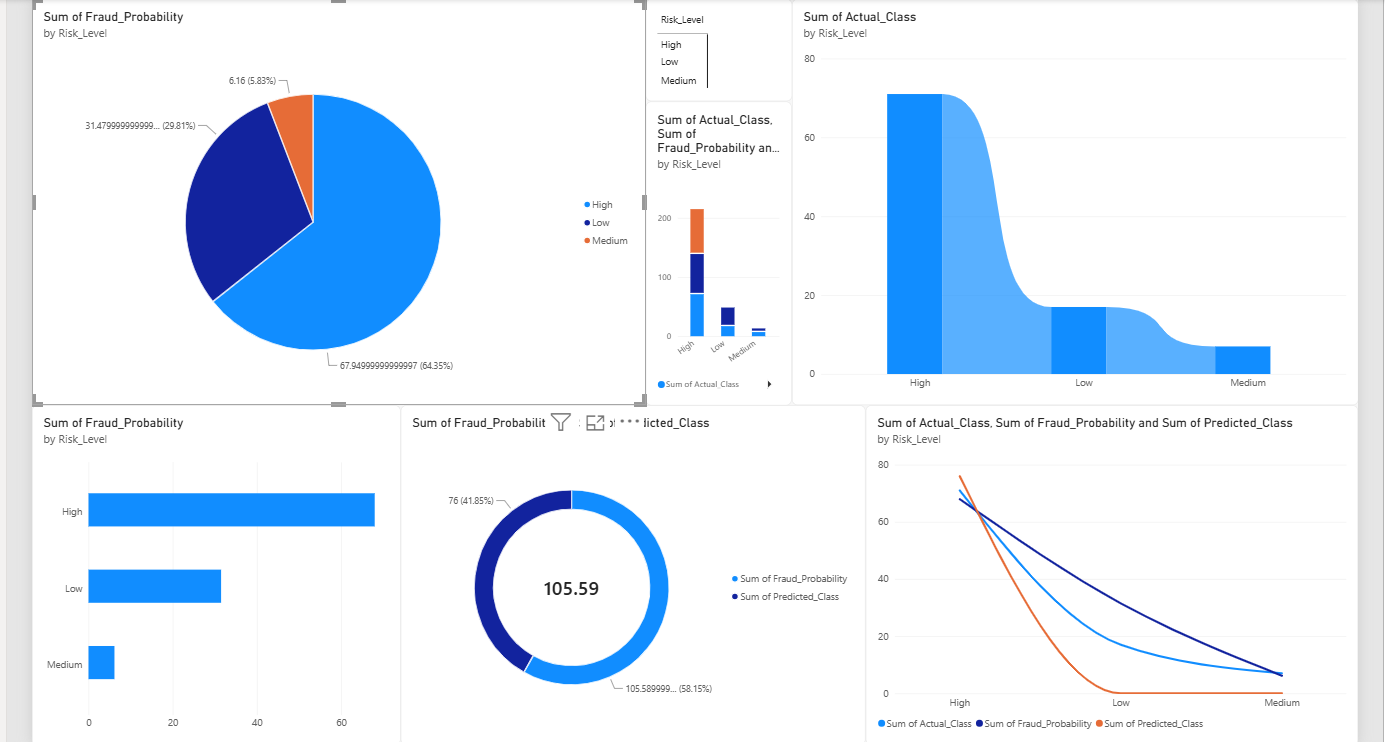

What the dashboard file says about the page in this screenshot:
{"tool":"powerbi","page":{"name":"Page 1","canvas":[1920,1080],"ordinal":0},"visuals":[{"type":"donutChart","fields":{"Y":["Sum(public transaction_predictions.Fraud_Probability)","Sum(public transaction_predictions.Predicted_Class)"]},"box":[533.8,588.1,673.2,492.2],"z":0},{"type":"lineChart","fields":{"Category":["public transaction_predictions.Risk_Level"],"Y":["Sum(public transaction_predictions.Actual_Class)","Sum(public transaction_predictions.Fraud_Probability)","Sum(public transaction_predictions.Predicted_Class)"]},"box":[1207,588.1,713,492.2],"z":1000},{"type":"barChart","fields":{"Category":["public transaction_predictions.Risk_Level"],"Y":["Sum(public transaction_predictions.Fraud_Probability)"]},"box":[0,588.1,533.8,492.2],"z":2000},{"type":"pieChart","fields":{"Category":["public transaction_predictions.Risk_Level"],"Y":["Sum(public transaction_predictions.Fraud_Probability)"]},"box":[0,0,888.5,588.1],"z":3000},{"type":"pivotTable","fields":{"Rows":["public transaction_predictions.Risk_Level"]},"box":[888.5,0,211.7,148.4],"z":4000},{"type":"ribbonChart","fields":{"Category":["public transaction_predictions.Risk_Level"],"Y":["Sum(public transaction_predictions.Actual_Class)"]},"box":[1100.3,0,819.8,588.1],"z":4001},{"type":"lineStackedColumnComboChart","fields":{"Category":["public transaction_predictions.Risk_Level"],"Y":["Sum(public transaction_predictions.Actual_Class)","Sum(public transaction_predictions.Fraud_Probability)","Sum(public transaction_predictions.Predicted_Class)"]},"box":[889,148,211,440],"z":4002}]}

Visuals, with their boxes on the page's 1920x1080 design canvas (x1, y1, x2, y2). These are canvas units, not pixel positions in the 1385x742 screenshot, which may show the page scaled, cropped or inside an application window:
donutChart - Sum(public transaction_predictions.Fraud_Probability) x Sum(public transaction_predictions.Predicted_Class): 534,588,1207,1080
lineChart - public transaction_predictions.Risk_Level x Sum(public transaction_predictions.Actual_Class): 1207,588,1920,1080
barChart - public transaction_predictions.Risk_Level x Sum(public transaction_predictions.Fraud_Probability): 0,588,534,1080
pieChart - public transaction_predictions.Risk_Level x Sum(public transaction_predictions.Fraud_Probability): 0,0,888,588
pivotTable - public transaction_predictions.Risk_Level: 888,0,1100,148
ribbonChart - public transaction_predictions.Risk_Level x Sum(public transaction_predictions.Actual_Class): 1100,0,1920,588
lineStackedColumnComboChart - public transaction_predictions.Risk_Level x Sum(public transaction_predictions.Actual_Class): 889,148,1100,588
